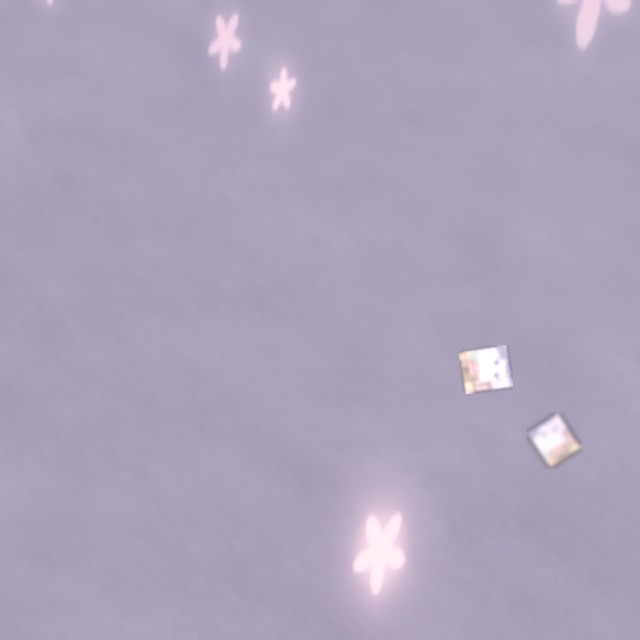urso_branco: (526, 412, 582, 469), (459, 345, 513, 394)
